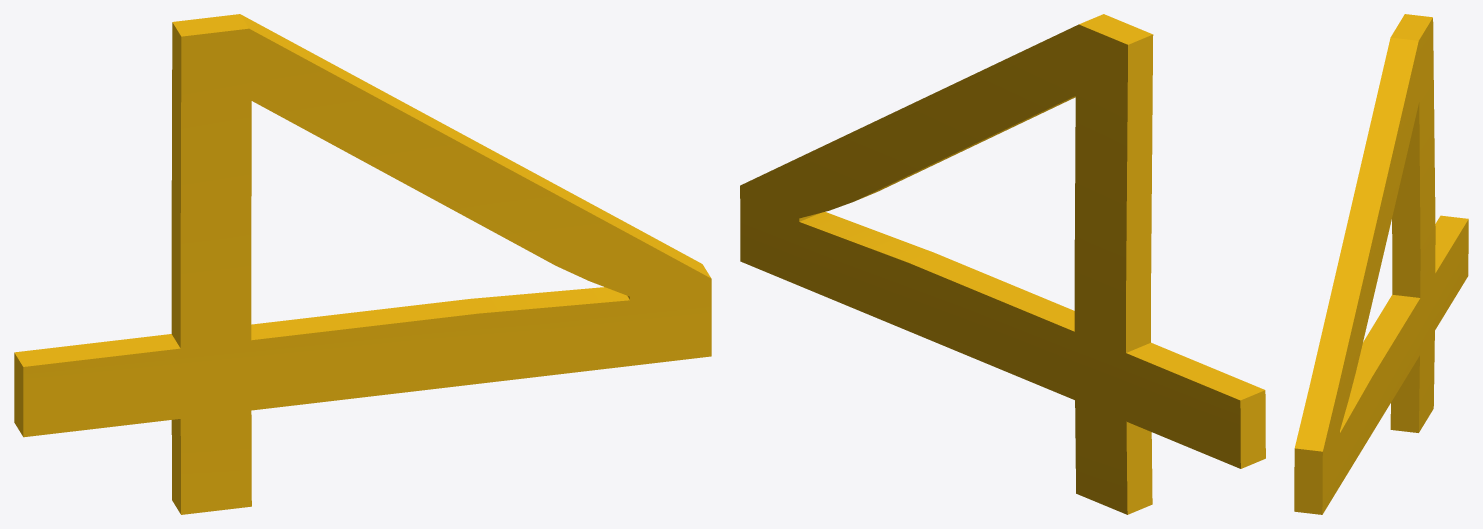
The model's file is Number_4.gltf.
3 views of the same model, side by side, from view 1: azimuth 30°, elevation 25°; view 2: azimuth 150°, elevation 25°; view 3: azimuth 270°, elevation 25° (orthographic). The views are drawn at different scales.
Visible parts, largest first — view 1: Sub_1_Cell_2_2_Number_4; view 2: Sub_1_Cell_2_2_Number_4; view 3: Sub_1_Cell_2_2_Number_4.
Boxes of the visible parts, left/top/right/bottom form: Sub_1_Cell_2_2_Number_4: left=14, top=14, right=711, bottom=514; Sub_1_Cell_2_2_Number_4: left=740, top=14, right=1265, bottom=514; Sub_1_Cell_2_2_Number_4: left=1294, top=14, right=1468, bottom=514.
Bounding box in the file's own units: 0.0249 × 0.0187 × 0.00757.
